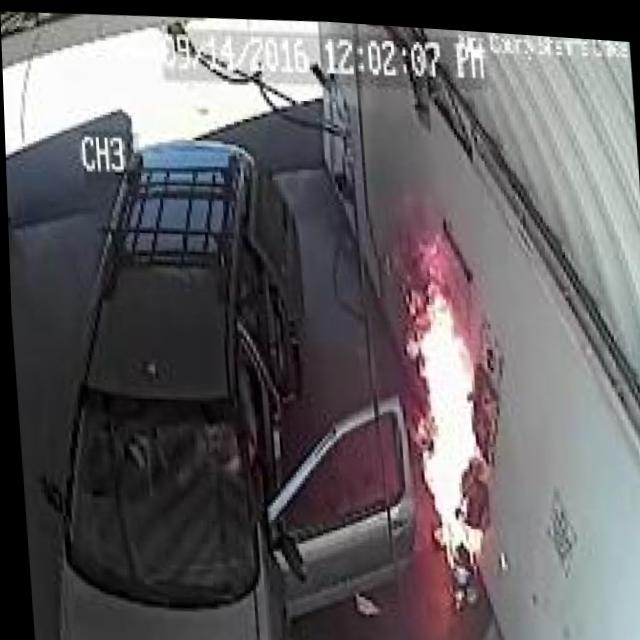fire: (382, 211, 510, 572)
